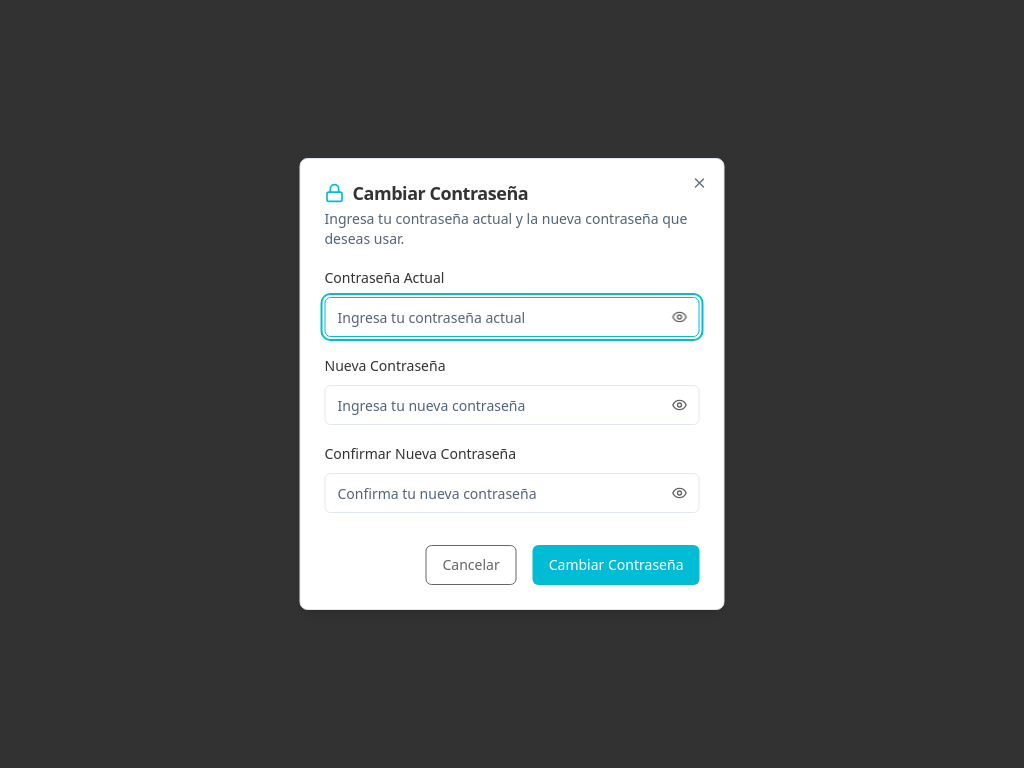
Scenario: ChangePasswordModal › shows validation errors for empty fields
Click the button "Cambiar Contraseña": click(616, 565) [533,545,700,585]
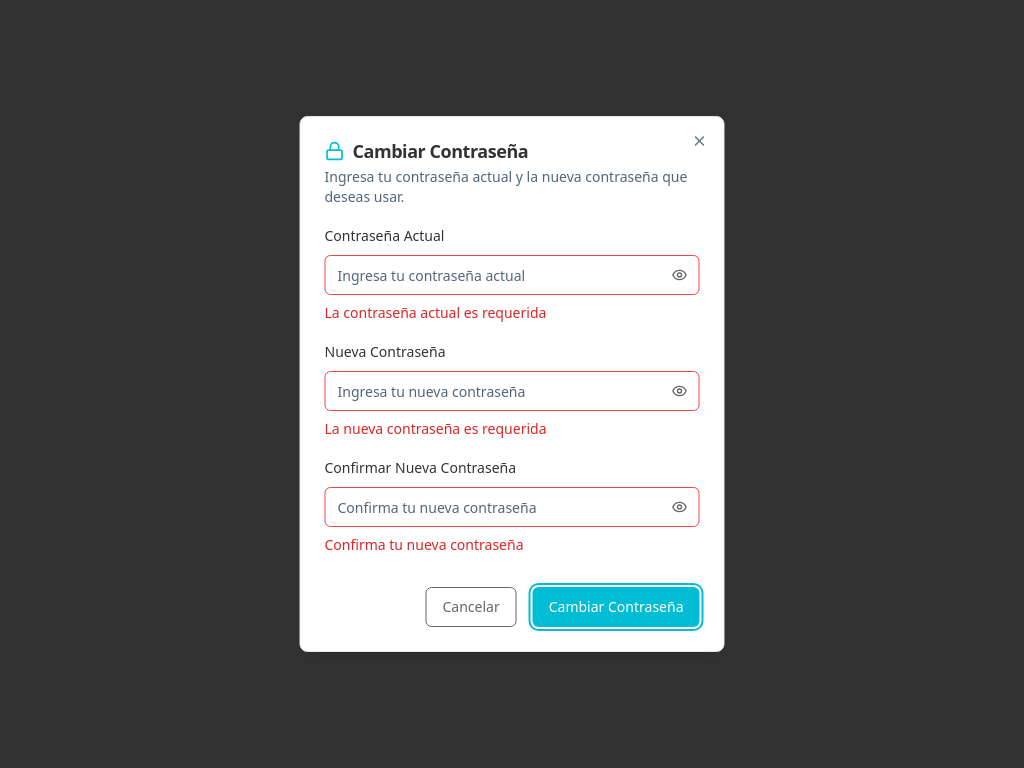
Expected: the text "La contraseña actual es requerida" is shown, [324,303,546,322]
Expected: the text "La nueva contraseña es requerida" is shown, [324,419,546,438]
Expected: the text "Confirma tu nueva contraseña" is shown, [324,535,524,554]
